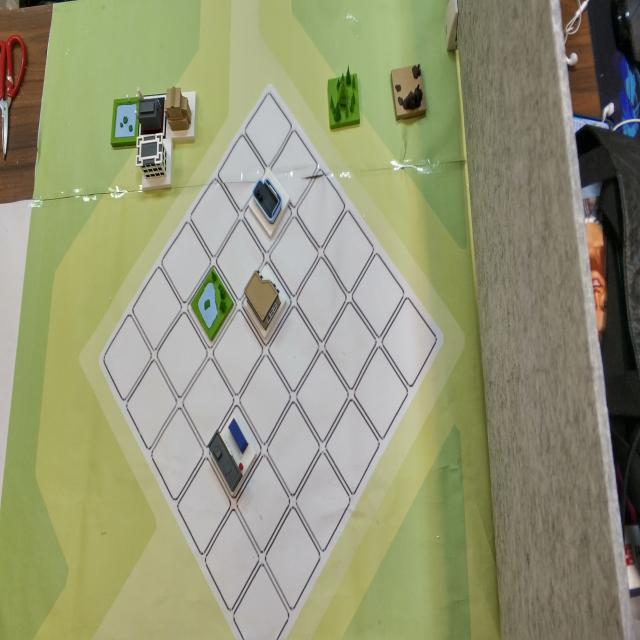bus_stop: (207, 397, 262, 499)
factory: (136, 90, 168, 141)
fish_pool: (108, 94, 141, 150)
forest: (322, 61, 366, 143)
gogo_shop: (243, 162, 294, 241)
research_build: (135, 136, 176, 200)
restaurant: (239, 256, 295, 353)
silicate_rock: (387, 55, 430, 129)
volunteer_center: (164, 80, 198, 148)
wet_land: (189, 257, 235, 339)
